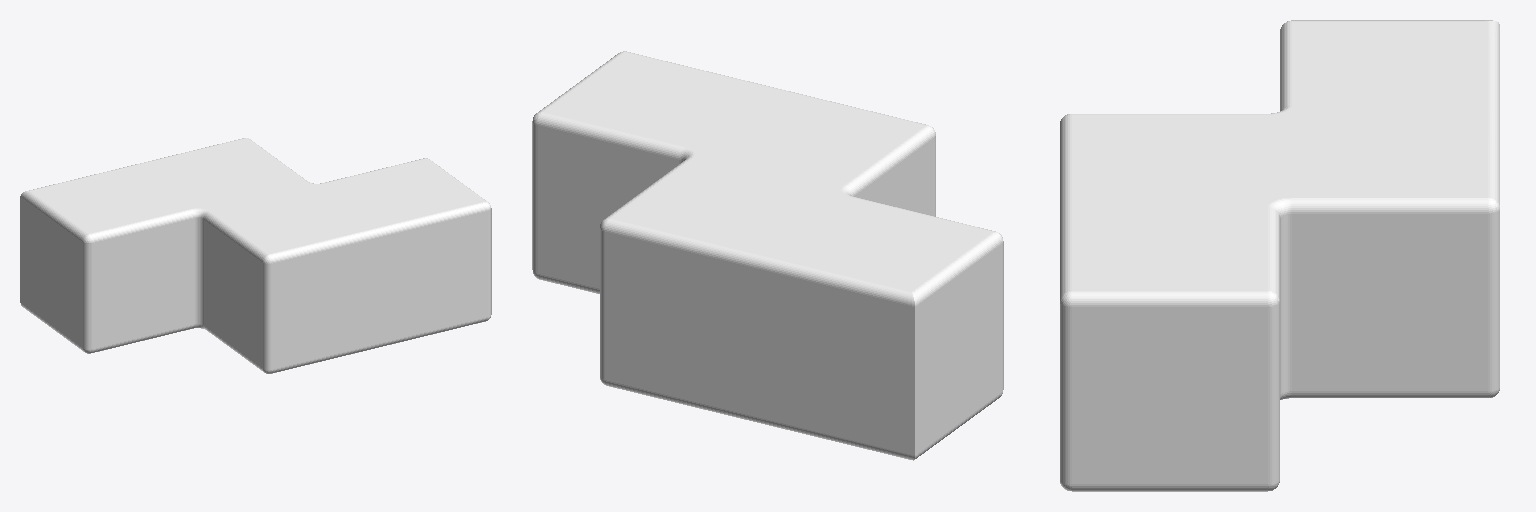
robot.urdf — cube4:
<robot name="cube4">
	<link name="baseLink">
    	<contact>
      		<lateral_friction value="0.5" />
      		<rolling_friction value="0.0" />
      		<contact_cfm value="0.0" />
      		<contact_erp value="1.0" />
    	</contact>
		<visual>
			<origin rpy="0.0 0.0 0.0" xyz="-0.06995627751590827 0.029970967786357938 -0.09000000089391079" />
			<geometry>
				<mesh filename="cubes/cube4.obj" scale="0.01 0.01 0.01" />
			</geometry>
			<material name="texture">
				<color rgba="1.0 1.0 1.0 1.0" />
			</material>
		</visual>
		<collision>
			<origin rpy="0.0 0.0 0.0" xyz="-0.06995627751590827 0.029970967786357938 -0.09000000089391079" />
			<geometry>
				<mesh filename="cubes/cube4_vhacd.obj" scale="0.01 0.01 0.01" />
			</geometry>
		</collision>
		<inertial>
			<origin rpy="0 0 0" xyz="0 0 0" />
			<mass value="0.5" />
			<inertia ixx="0.01" ixy="0.0" ixz="0.0" iyy="0.01" iyz="0.0" izz="0.01" />
		</inertial>
	</link>
</robot>

--- What the picture shows (computed from the rendered views, not written in the file) ---
Views: 3 orthographic renders of the robot side by side, from view 1: azimuth 30°, elevation 25°; view 2: azimuth 150°, elevation 25°; view 3: azimuth 270°, elevation 25°.
Model cube4 with 1 links and 0 joints (none), rooted at baseLink, posed every joint at zero.
Links seen in each view (by area): view 1: baseLink; view 2: baseLink; view 3: baseLink.
Link boxes in pixels (x1=…): baseLink: x1=20, y1=138, x2=491, y2=373; baseLink: x1=532, y1=51, x2=1003, y2=460; baseLink: x1=1060, y1=20, x2=1499, y2=491.
Bounding box of the posed robot: 0.54 × 0.36 × 0.18 m (x, y, z).
1 mesh visuals loaded from 1 distinct referenced files (1 OBJ).